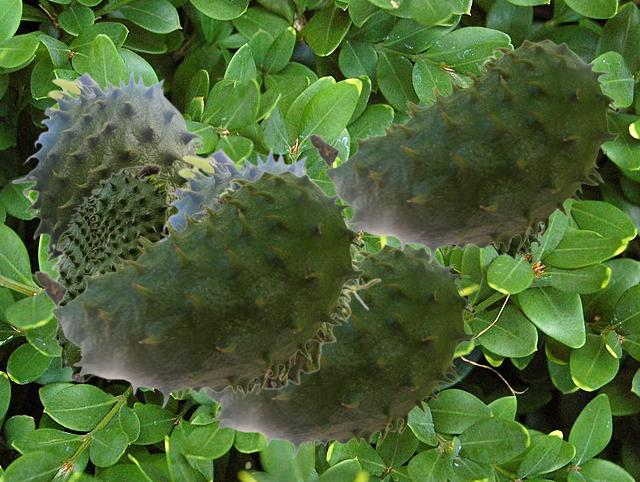guyabano: (34, 170, 364, 408), (308, 39, 619, 263), (203, 243, 475, 458), (160, 145, 381, 393), (11, 69, 204, 262), (50, 163, 171, 382), (483, 223, 549, 259)
